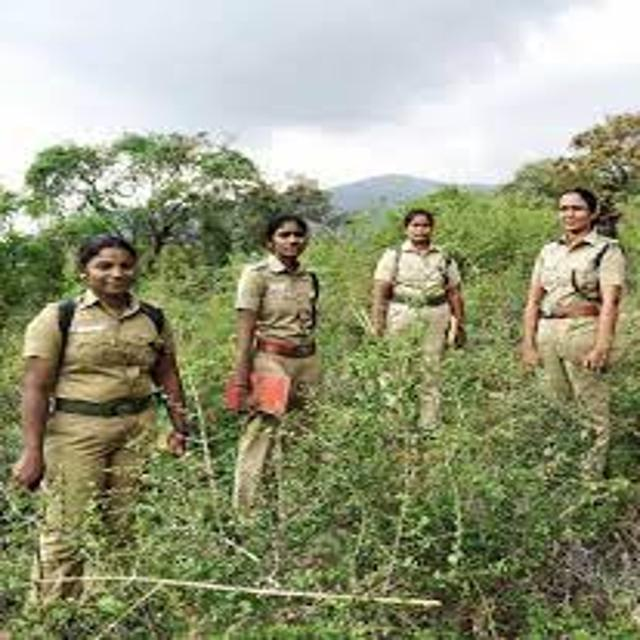ranger: (1, 211, 210, 619), (185, 204, 376, 517), (494, 173, 635, 501), (341, 191, 492, 445)
